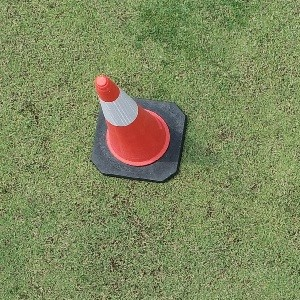traffic cone: (80, 75, 186, 182)
